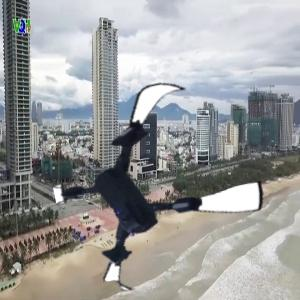drone: (56, 83, 263, 290)
